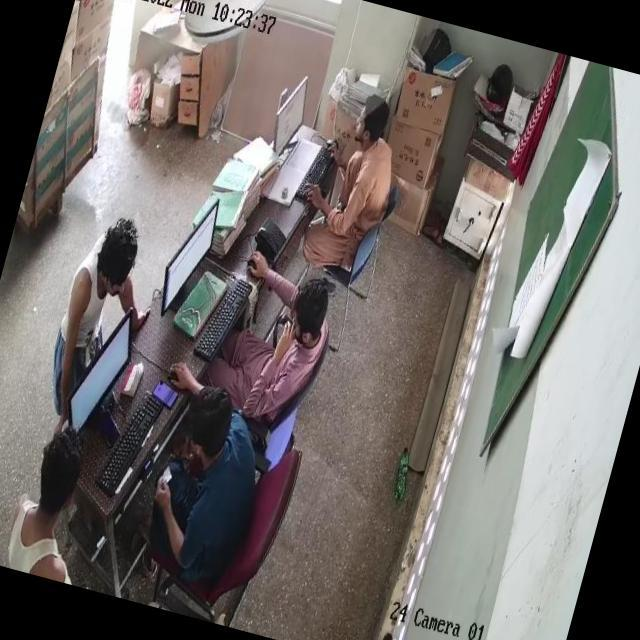person: (144, 366, 281, 576), (314, 74, 412, 254), (0, 418, 106, 583), (48, 215, 140, 396), (218, 262, 330, 400)
